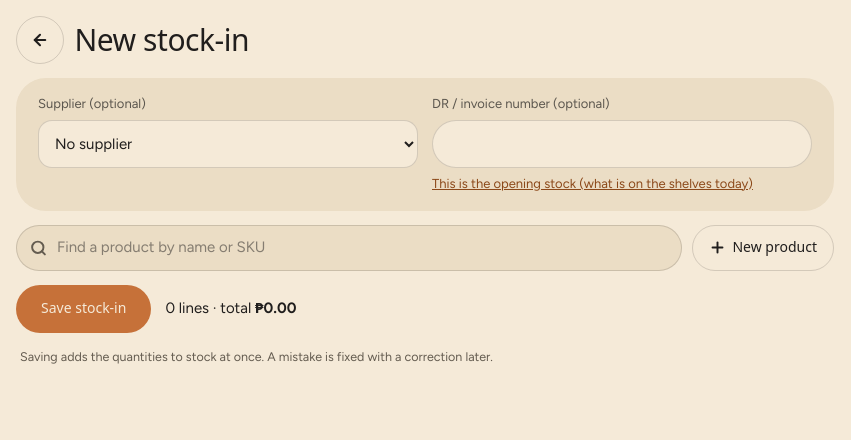
New stock-in (INV-02) › only active products and suppliers can be chosen
Step 1. Type "old" into the search field labelled "Find a product by name or SKU" → [349, 248], box [16,225,682,271]
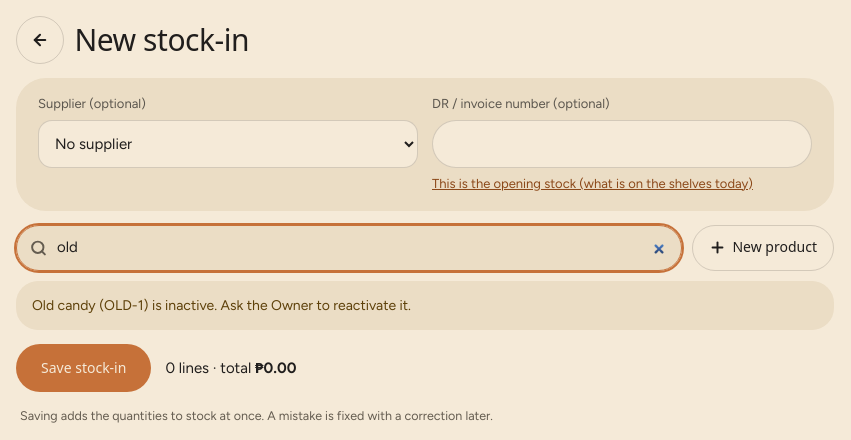
expect the list item "Old candy (OLD-1) is inactive. Ask the Owner to reactivate it." is shown: met, box [32,297,411,314]
Step 2. Replace the text in the search field named "Find a product by name or SKU" with "nothing like it" → [349, 248], box [16,225,682,271]
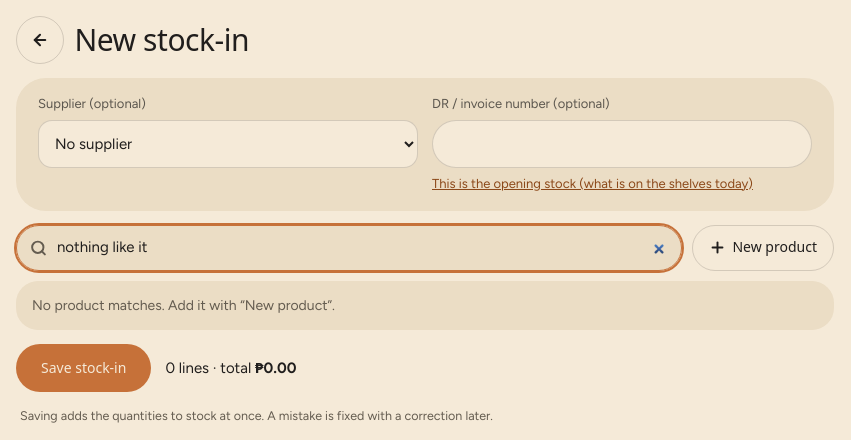
expect the list item "No product matches. Add it with “New product”." is shown: met, box [32,297,335,314]
